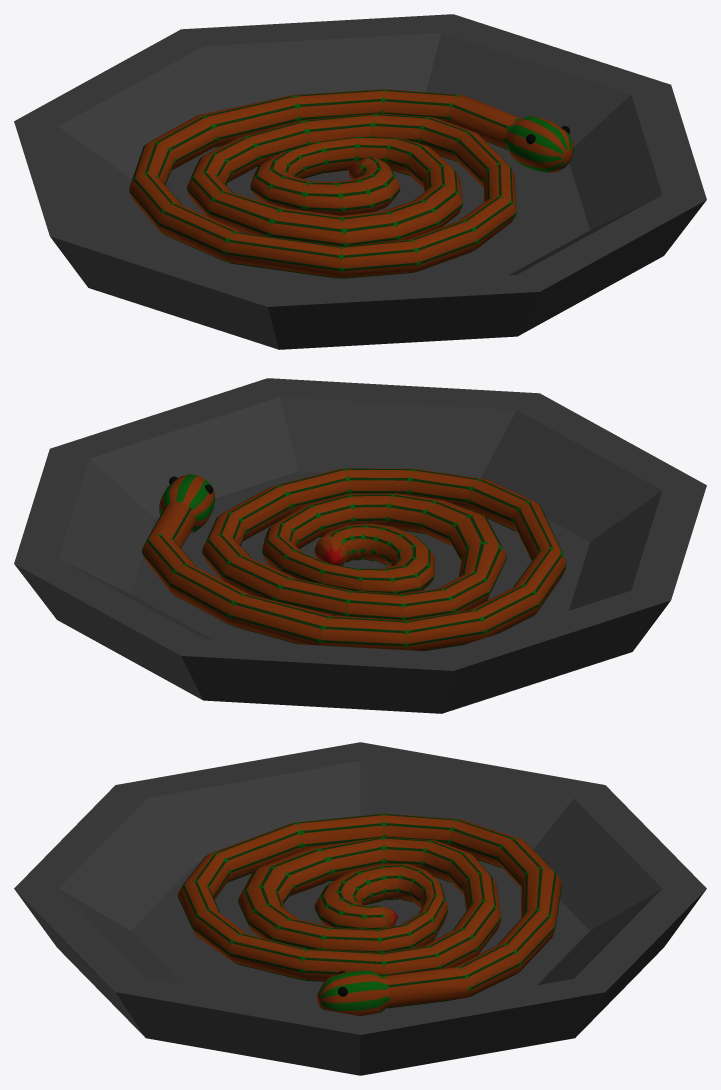
File: steamed snake.fbx
3 views of the same model, one above another, from view 1: azimuth 30°, elevation 25°; view 2: azimuth 150°, elevation 25°; view 3: azimuth 270°, elevation 25° (orthographic). The views are drawn at different scales.
Parts seen in each view (by area): view 1: plate.001; view 2: plate.001; view 3: plate.001.
Part boxes in pixels (x1,y1,x2,y2): plate.001: [14, 14, 706, 349]; plate.001: [14, 378, 706, 713]; plate.001: [14, 742, 706, 1075].
Size of the model in its own units: 302 by 36.7 by 302.
